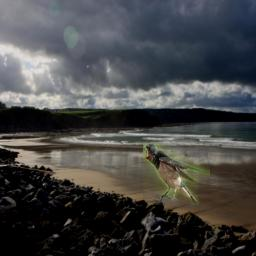Swallow: (143, 143, 210, 205)
